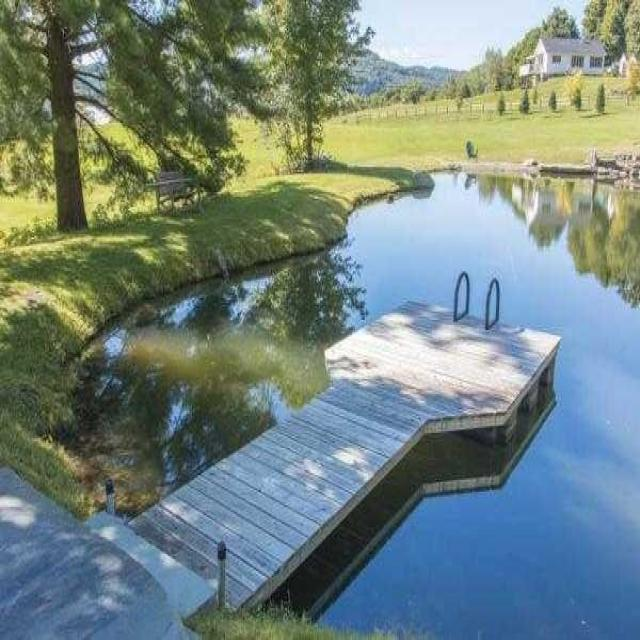Ponds: (70, 166, 640, 640)
